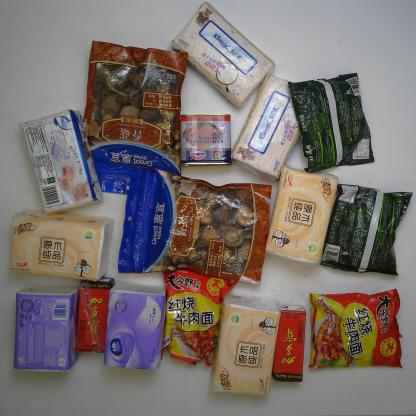Canned Food: (177, 112, 236, 167)
Dried Food: (117, 167, 276, 286), (83, 37, 191, 199)
Drink: (272, 303, 306, 383), (78, 274, 111, 353)
Instant Noodles: (288, 73, 378, 175), (322, 182, 412, 276), (309, 290, 404, 376), (157, 266, 230, 364)
Tissue: (170, 0, 276, 104), (230, 73, 318, 181), (16, 108, 102, 214), (207, 295, 284, 399), (264, 167, 340, 267), (9, 212, 113, 283), (12, 285, 81, 378), (102, 284, 170, 374)
